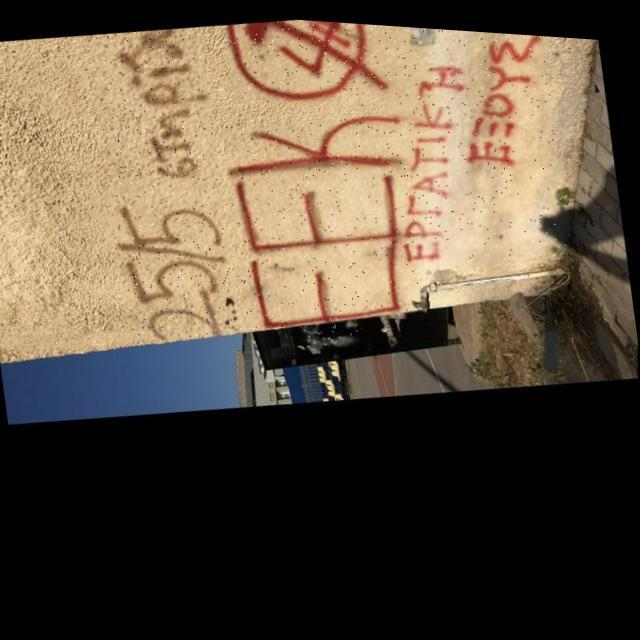-: (86, 18, 242, 345), (371, 20, 572, 266), (221, 99, 430, 335), (224, 12, 419, 110), (302, 313, 361, 349)
